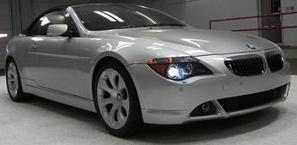front_view: (139, 47, 291, 127)
headlight: (147, 53, 219, 90)
side_glass: (29, 10, 82, 41)
